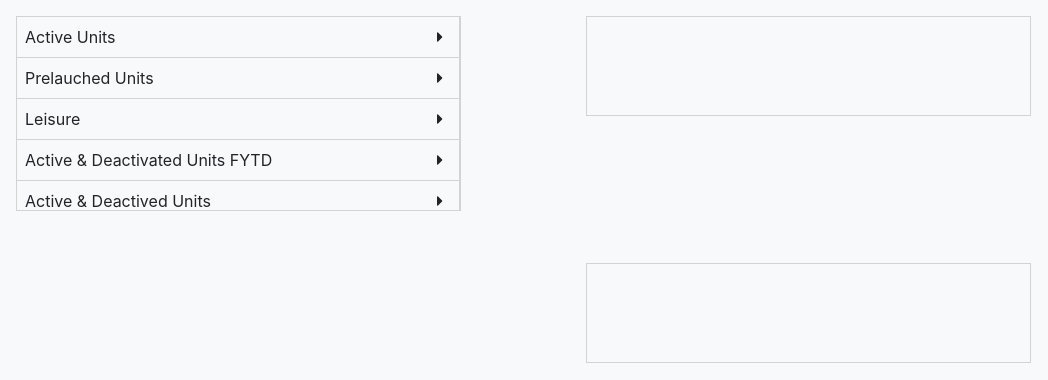
Test case: <App /> mount rendering › Check SelectGroup list renders on SelectFilter item click
The width and height of the screenshot is (1048, 380).
Expected: the number of elements with class "SelectGroup" is 1, x1=586 y1=16 x2=1031 y2=116
Click the element with id "ActiveUnits": coordinates (238, 38) x1=17 y1=17 x2=460 y2=58
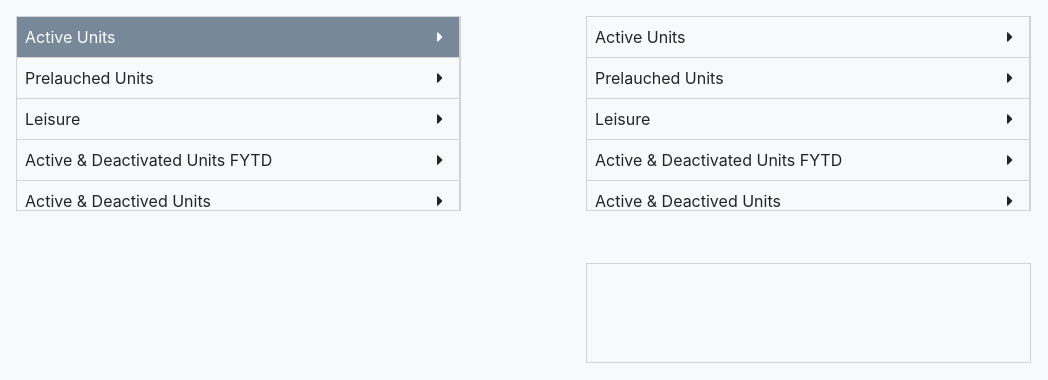
Expected: the element showing "Active Units" is shown, x1=587 y1=17 x2=1030 y2=58
Expected: the element showing "Prelauched Units" is shown, x1=587 y1=58 x2=1030 y2=99
Expected: the element showing "Leisure" is shown, x1=587 y1=99 x2=1030 y2=140
